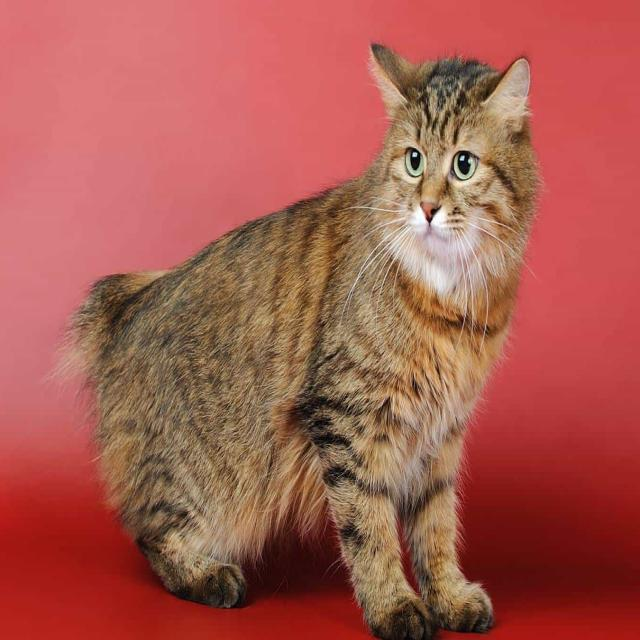American Bobtail: (61, 33, 541, 640)
